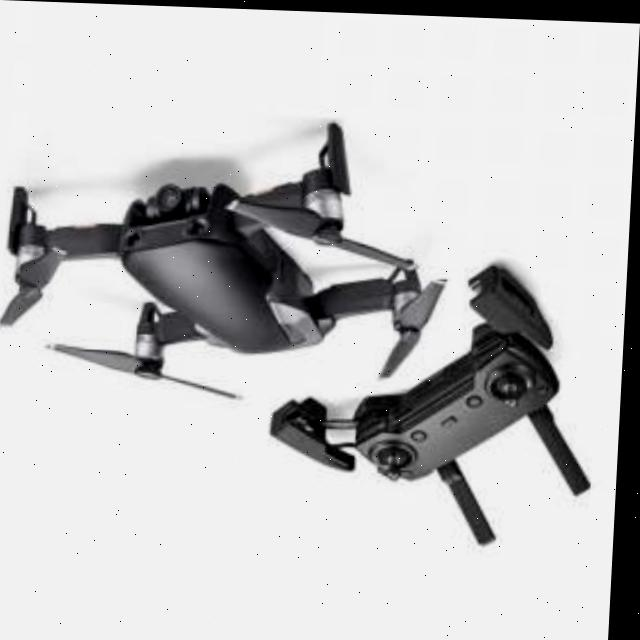drone: (0, 95, 466, 423)
